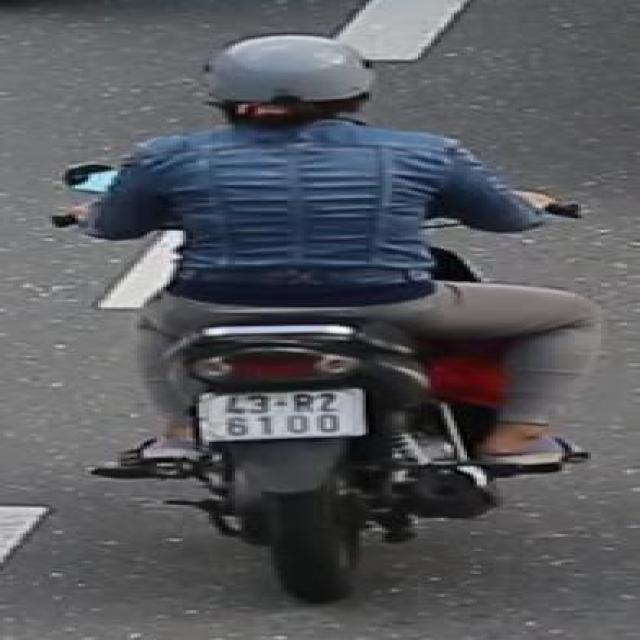LP: (196, 384, 372, 445)
helmet: (198, 31, 380, 131)
